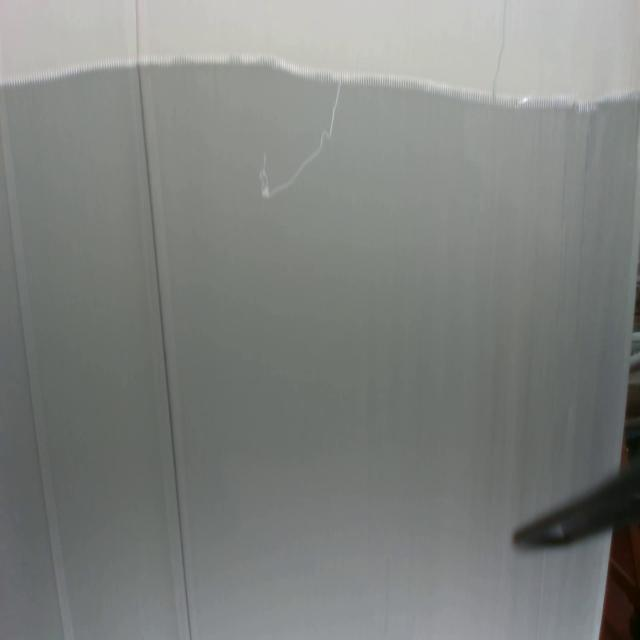crease: (0, 89, 72, 640), (136, 0, 192, 640)
